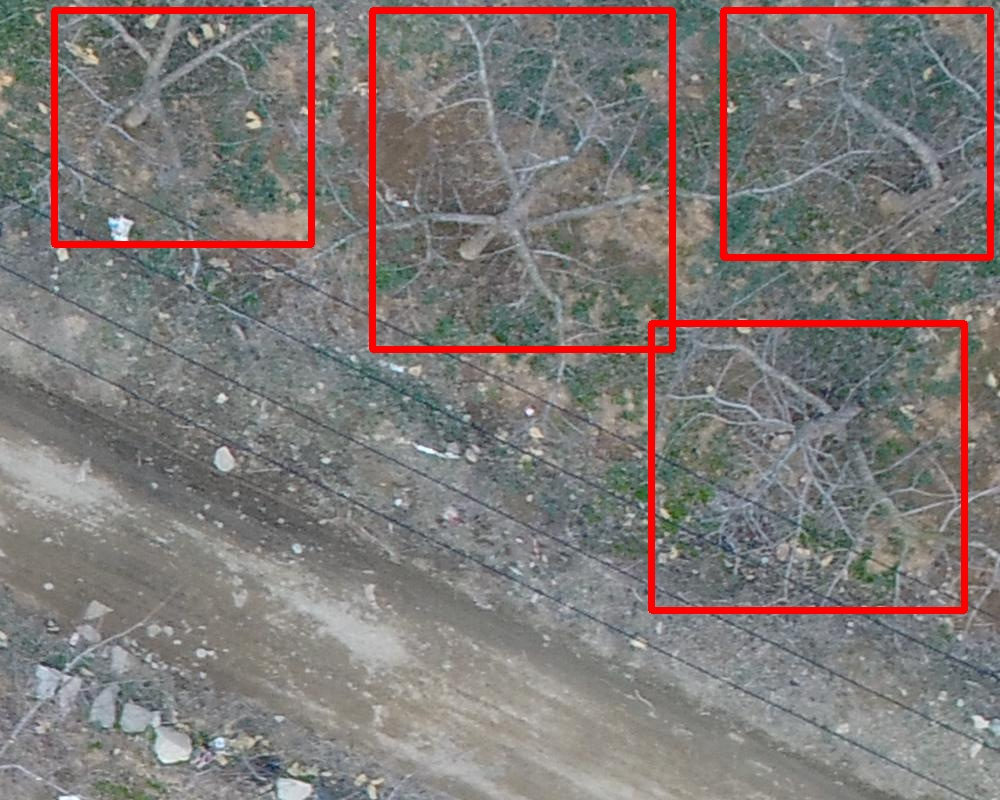apple: (372, 10, 672, 349), (651, 323, 964, 610), (723, 10, 990, 257), (54, 10, 311, 244)
